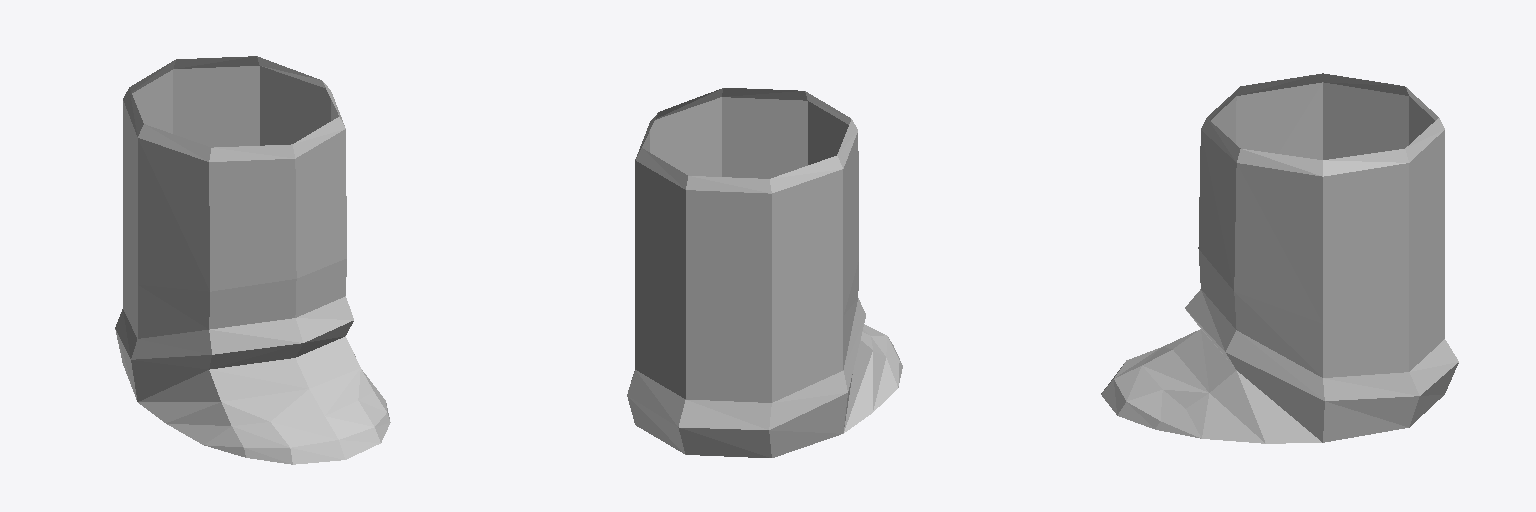
Rendered from bota_izq.obj.
3 views of the same model, side by side, from view 1: azimuth 30°, elevation 25°; view 2: azimuth 150°, elevation 25°; view 3: azimuth 270°, elevation 25° (orthographic).
Visible parts, largest first — view 1: bota_izq; view 2: bota_izq; view 3: bota_izq.
Boxes of the visible parts, <box> form: bota_izq: <box>115,56,390,464</box>; bota_izq: <box>627,88,902,457</box>; bota_izq: <box>1101,73,1458,443</box>.
Bounding box in the file's own units: 0.5424 × 0.6998 × 0.8208.